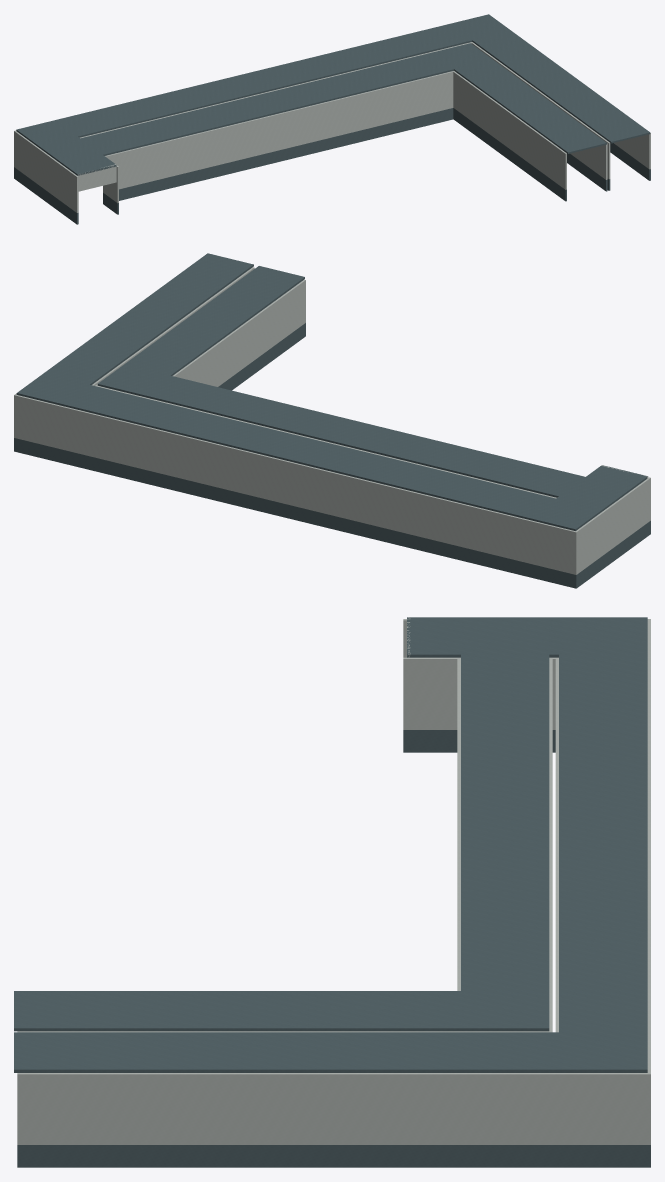
File: AST-MED-G3-003.glb
3 views of the same model, one above another, from view 1: azimuth 30°, elevation 25°; view 2: azimuth 150°, elevation 25°; view 3: azimuth 270°, elevation 25° (orthographic). The views are drawn at different scales.
Parts seen in each view (by area): view 1: overhead_staff_bluegrey_paint_4_-42, screen_wall_staff_white_paint_3_-42, screen_wall_staff_white_paint_2_-42, overhead_staff_bluegrey_paint_2_-42, overhead_staff_bluegrey_paint_3_-42, screen_wall_staff_white_paint_4_-42, screen_wall_staff_white_paint_4_-41, overhead_staff_bluegrey_paint_4_-41, overhead_staff_bluegrey_paint_1_-42, screen_wall_staff_white_paint_1_-42, overhead_staff_bluegrey_paint_5_-41, overhead_staff_bluegrey_paint_5_-42 (+14 smaller); view 2: overhead_staff_bluegrey_paint_4_-42, screen_wall_staff_white_paint_4_-43, screen_wall_staff_white_paint_3_-43, screen_wall_staff_white_paint_2_-43, overhead_staff_bluegrey_paint_2_-42, overhead_staff_bluegrey_paint_3_-42, overhead_staff_bluegrey_paint_4_-41, screen_wall_staff_white_paint_4_-41, overhead_staff_bluegrey_paint_1_-42, screen_wall_staff_white_paint_1_-43, overhead_staff_bluegrey_paint_5_-42, overhead_staff_bluegrey_paint_5_-41 (+15 smaller); view 3: overhead_staff_bluegrey_paint_4_-42, screen_wall_staff_white_paint_5_-42, screen_wall_staff_white_paint_5_-41, overhead_staff_bluegrey_paint_2_-42, overhead_staff_bluegrey_paint_3_-42, overhead_staff_bluegrey_paint_4_-41, overhead_staff_bluegrey_paint_5_-42, overhead_staff_bluegrey_paint_5_-41, overhead_staff_bluegrey_paint_1_-42, screen_wall_staff_bluegrey_paint_5_-42, screen_wall_staff_bluegrey_paint_5_-41, overhead_staff_bluegrey_paint_2_-43 (+11 smaller).
Boxes of the visible parts, x1,y1,x2,y2 form: overhead_staff_bluegrey_paint_4_-42: (340,30,544,98); screen_wall_staff_white_paint_3_-42: (221,71,376,157); screen_wall_staff_white_paint_2_-42: (91,103,246,189); overhead_staff_bluegrey_paint_2_-42: (80,93,245,152); overhead_staff_bluegrey_paint_3_-42: (210,61,375,121); screen_wall_staff_white_paint_4_-42: (351,42,535,134); screen_wall_staff_white_paint_4_-41: (491,88,610,189); overhead_staff_bluegrey_paint_4_-41: (493,85,619,153); overhead_staff_bluegrey_paint_1_-42: (27,125,116,175); screen_wall_staff_white_paint_1_-42: (26,135,118,212); overhead_staff_bluegrey_paint_5_-41: (545,77,650,141); overhead_staff_bluegrey_paint_5_-42: (470,22,574,84); overhead_staff_bluegrey_paint_4_-42: (66,327,262,429); screen_wall_staff_white_paint_4_-43: (51,403,206,484); screen_wall_staff_white_paint_3_-43: (205,441,359,521); screen_wall_staff_white_paint_2_-43: (359,478,513,559); overhead_staff_bluegrey_paint_2_-42: (374,435,569,504); overhead_staff_bluegrey_paint_3_-42: (220,398,415,466); overhead_staff_bluegrey_paint_4_-41: (155,262,304,343); screen_wall_staff_white_paint_4_-41: (165,267,305,386); overhead_staff_bluegrey_paint_1_-42: (528,465,648,520); screen_wall_staff_white_paint_1_-43: (513,516,590,574); overhead_staff_bluegrey_paint_5_-42: (30,318,154,391); overhead_staff_bluegrey_paint_5_-41: (119,253,242,326); overhead_staff_bluegrey_paint_4_-42: (308,916,603,1040); screen_wall_staff_white_paint_5_-42: (308,1073,603,1144); screen_wall_staff_white_paint_5_-41: (17,1073,308,1144); overhead_staff_bluegrey_paint_2_-42: (461,667,603,791); overhead_staff_bluegrey_paint_3_-42: (461,791,603,915); overhead_staff_bluegrey_paint_4_-41: (14,991,308,1040); overhead_staff_bluegrey_paint_5_-42: (308,1040,603,1072); overhead_staff_bluegrey_paint_5_-41: (14,1040,308,1072); overhead_staff_bluegrey_paint_1_-42: (407,617,603,666); screen_wall_staff_bluegrey_paint_5_-42: (308,1145,603,1167); screen_wall_staff_bluegrey_paint_5_-41: (17,1145,308,1167); overhead_staff_bluegrey_paint_2_-43: (603,667,647,791).
Size of the model in its own units: 43.88 by 4.34 by 25.94.
Materials: 4 (4 with a texture image).
